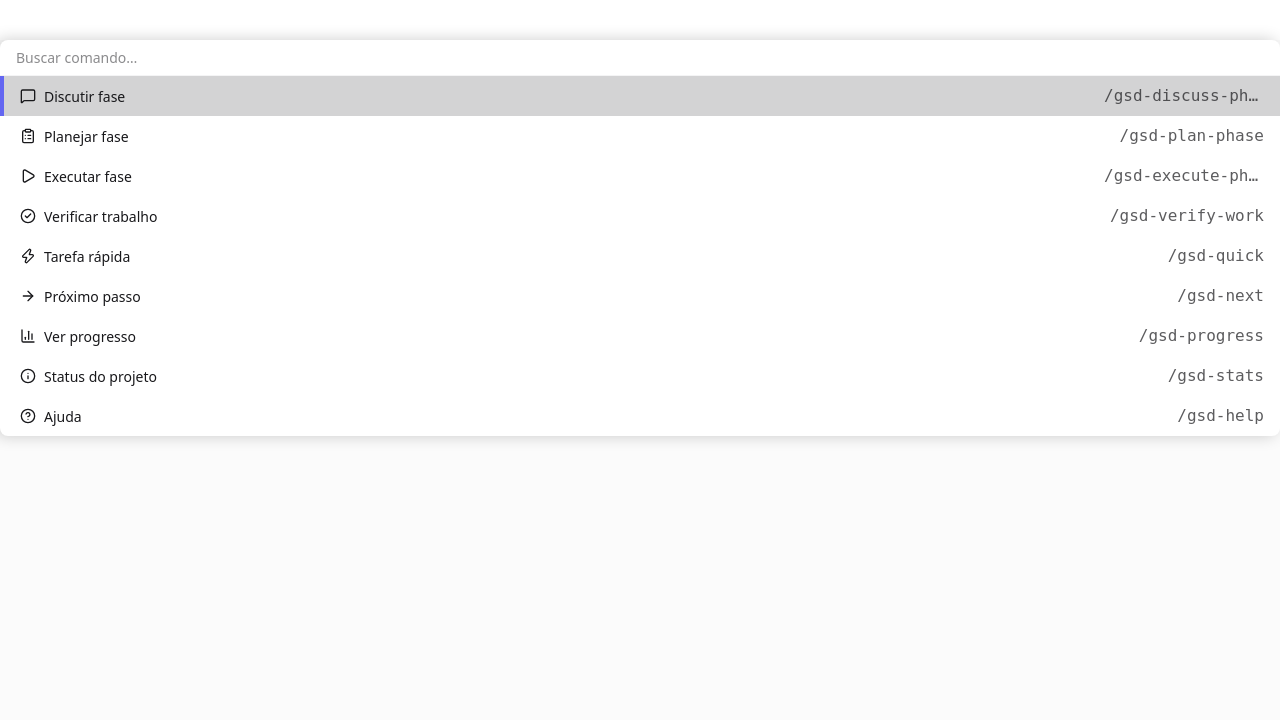
it: CommandPalette — filtro (ACT-04) › filtra por substring do token /gsd-* mesmo quando o label não contém a query
The image size is (1280, 720).
Type "discuss" into the field with placeholder "Buscar comando…" at (640, 58), box [0,40,1279,76]
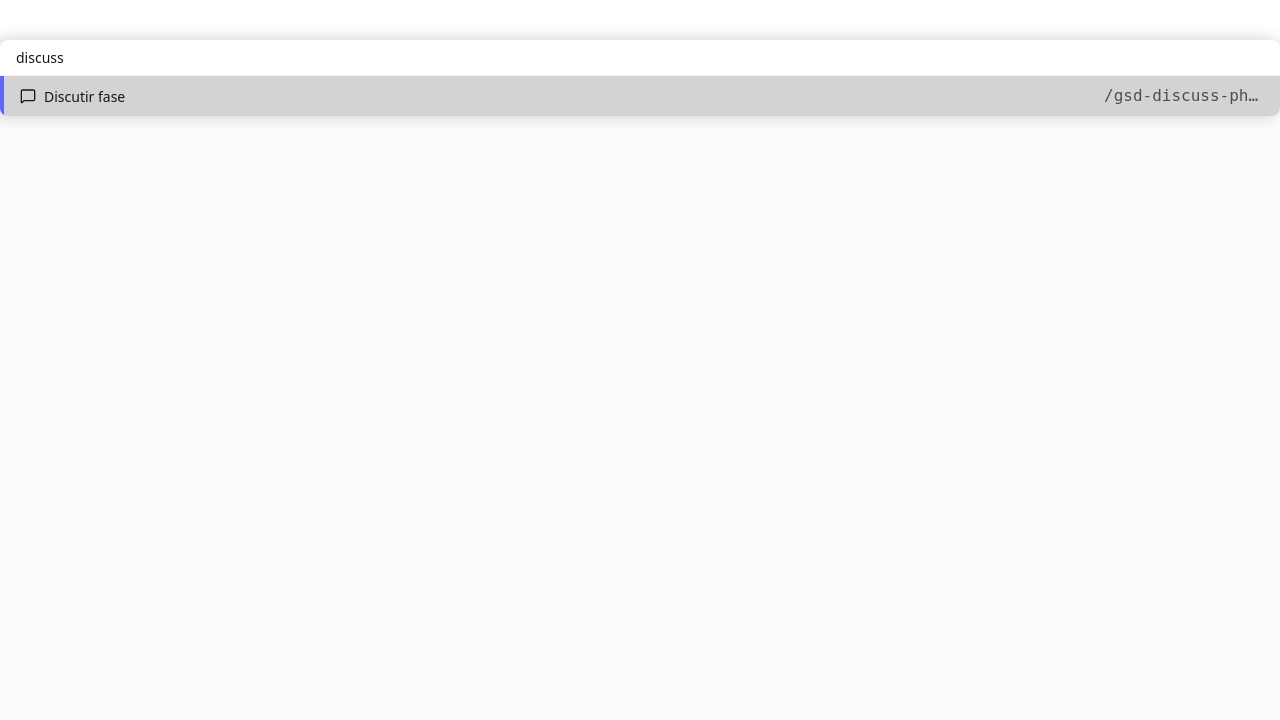
Expected: the button "Discutir fase /gsd-discuss-phase" is shown, [0,76,1279,116]
Now the button "Ajuda" is gone
Now the button "Planejar fase" is gone
